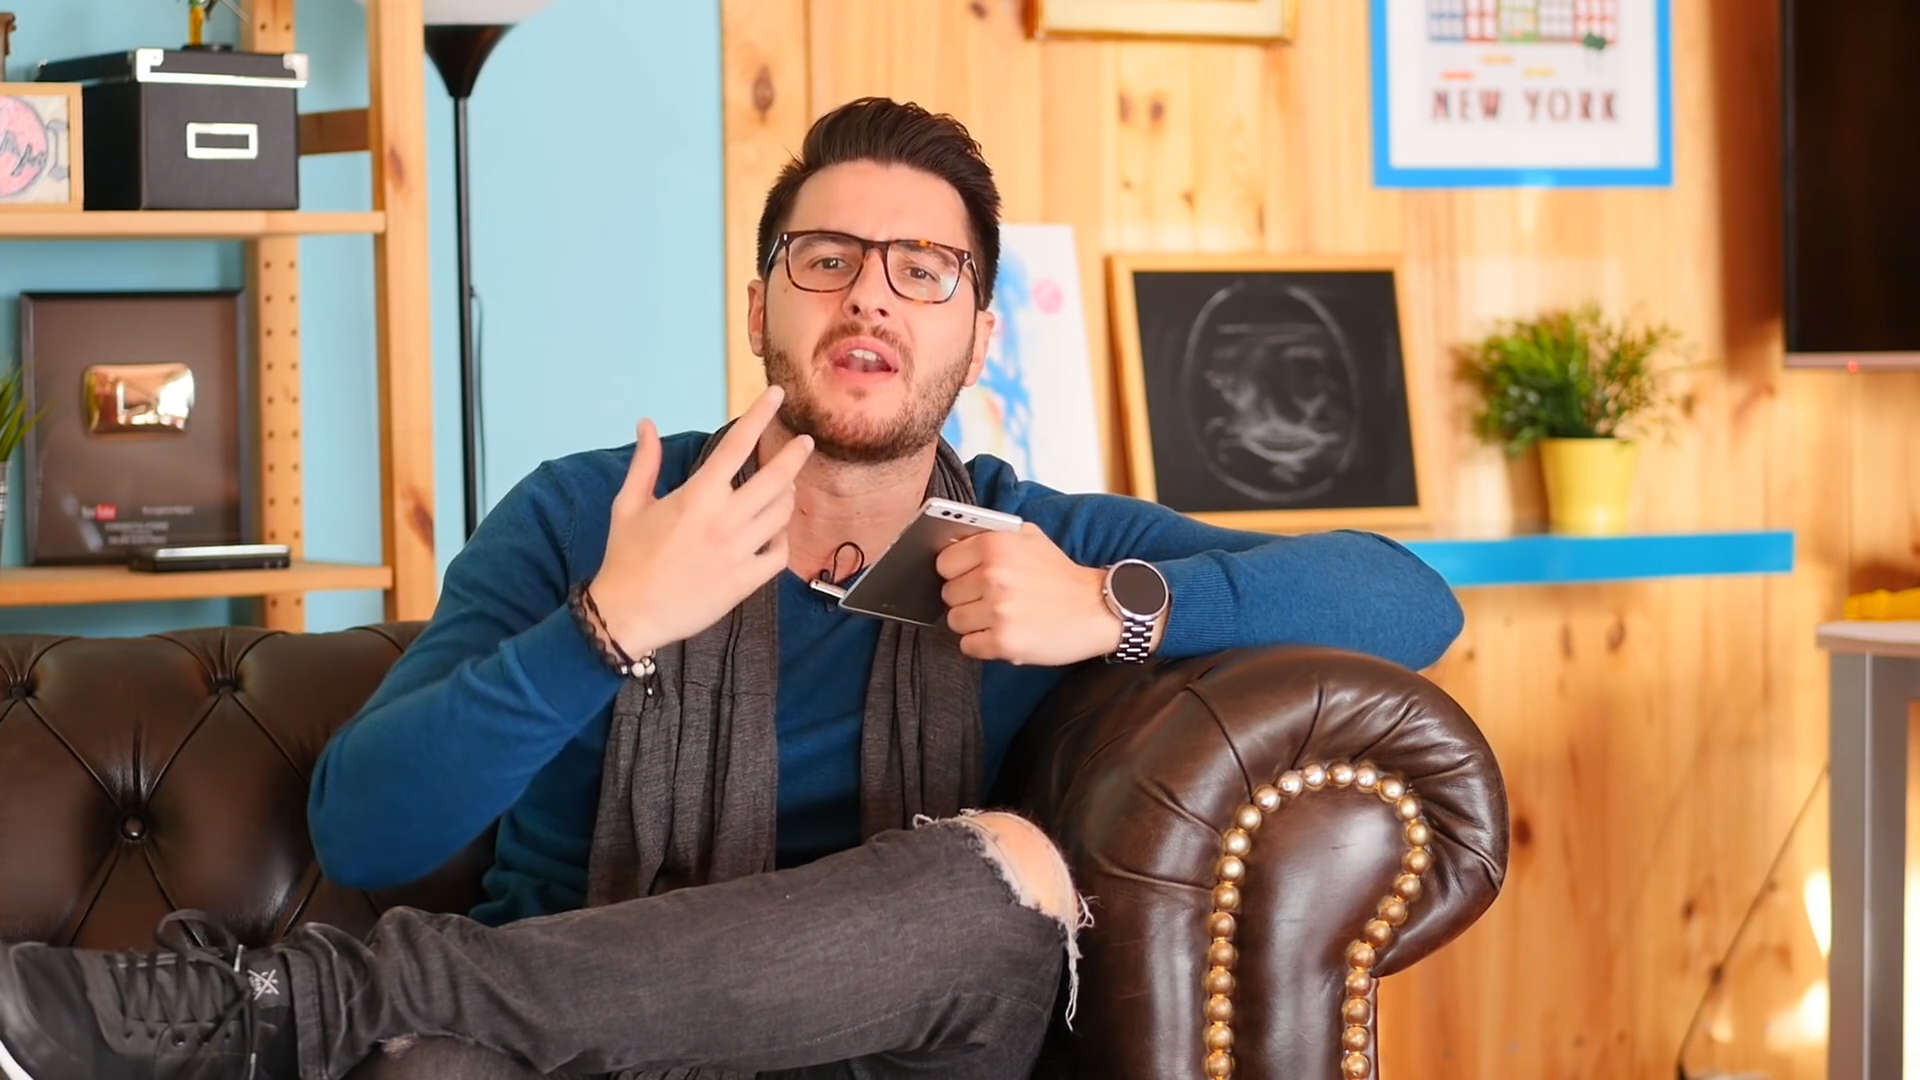smartphone: (837, 495, 1025, 632)
